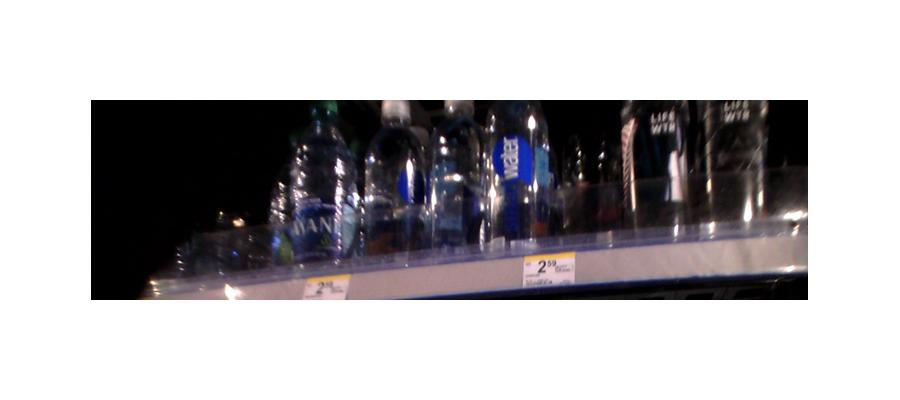bottle: (277, 99, 359, 269), (686, 98, 772, 233), (484, 102, 554, 251), (359, 107, 424, 259), (423, 104, 482, 255), (557, 116, 609, 233)
